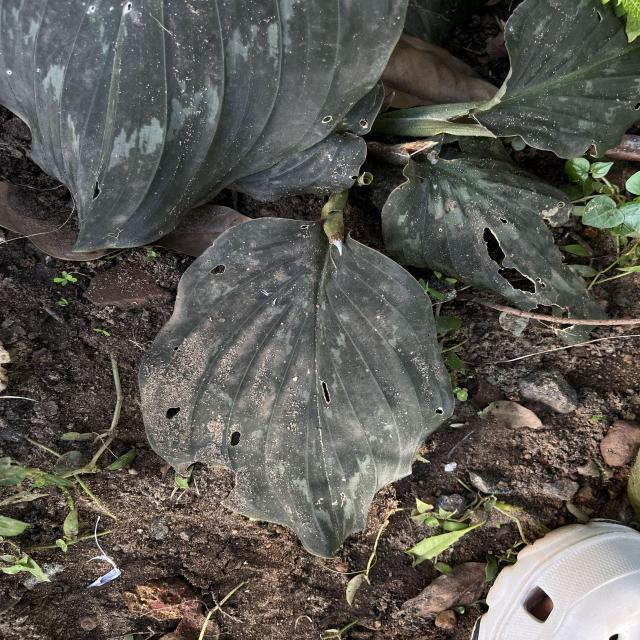Kaempferia galanga linn: (135, 214, 459, 563)
